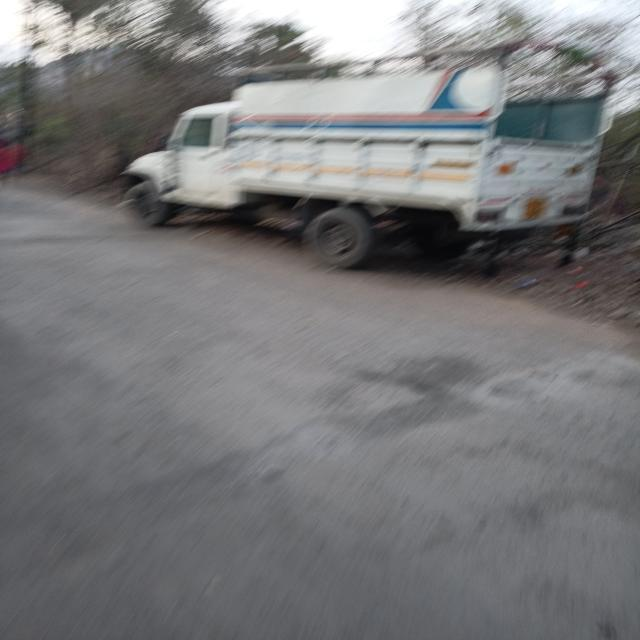truck_back: (108, 33, 630, 294)
